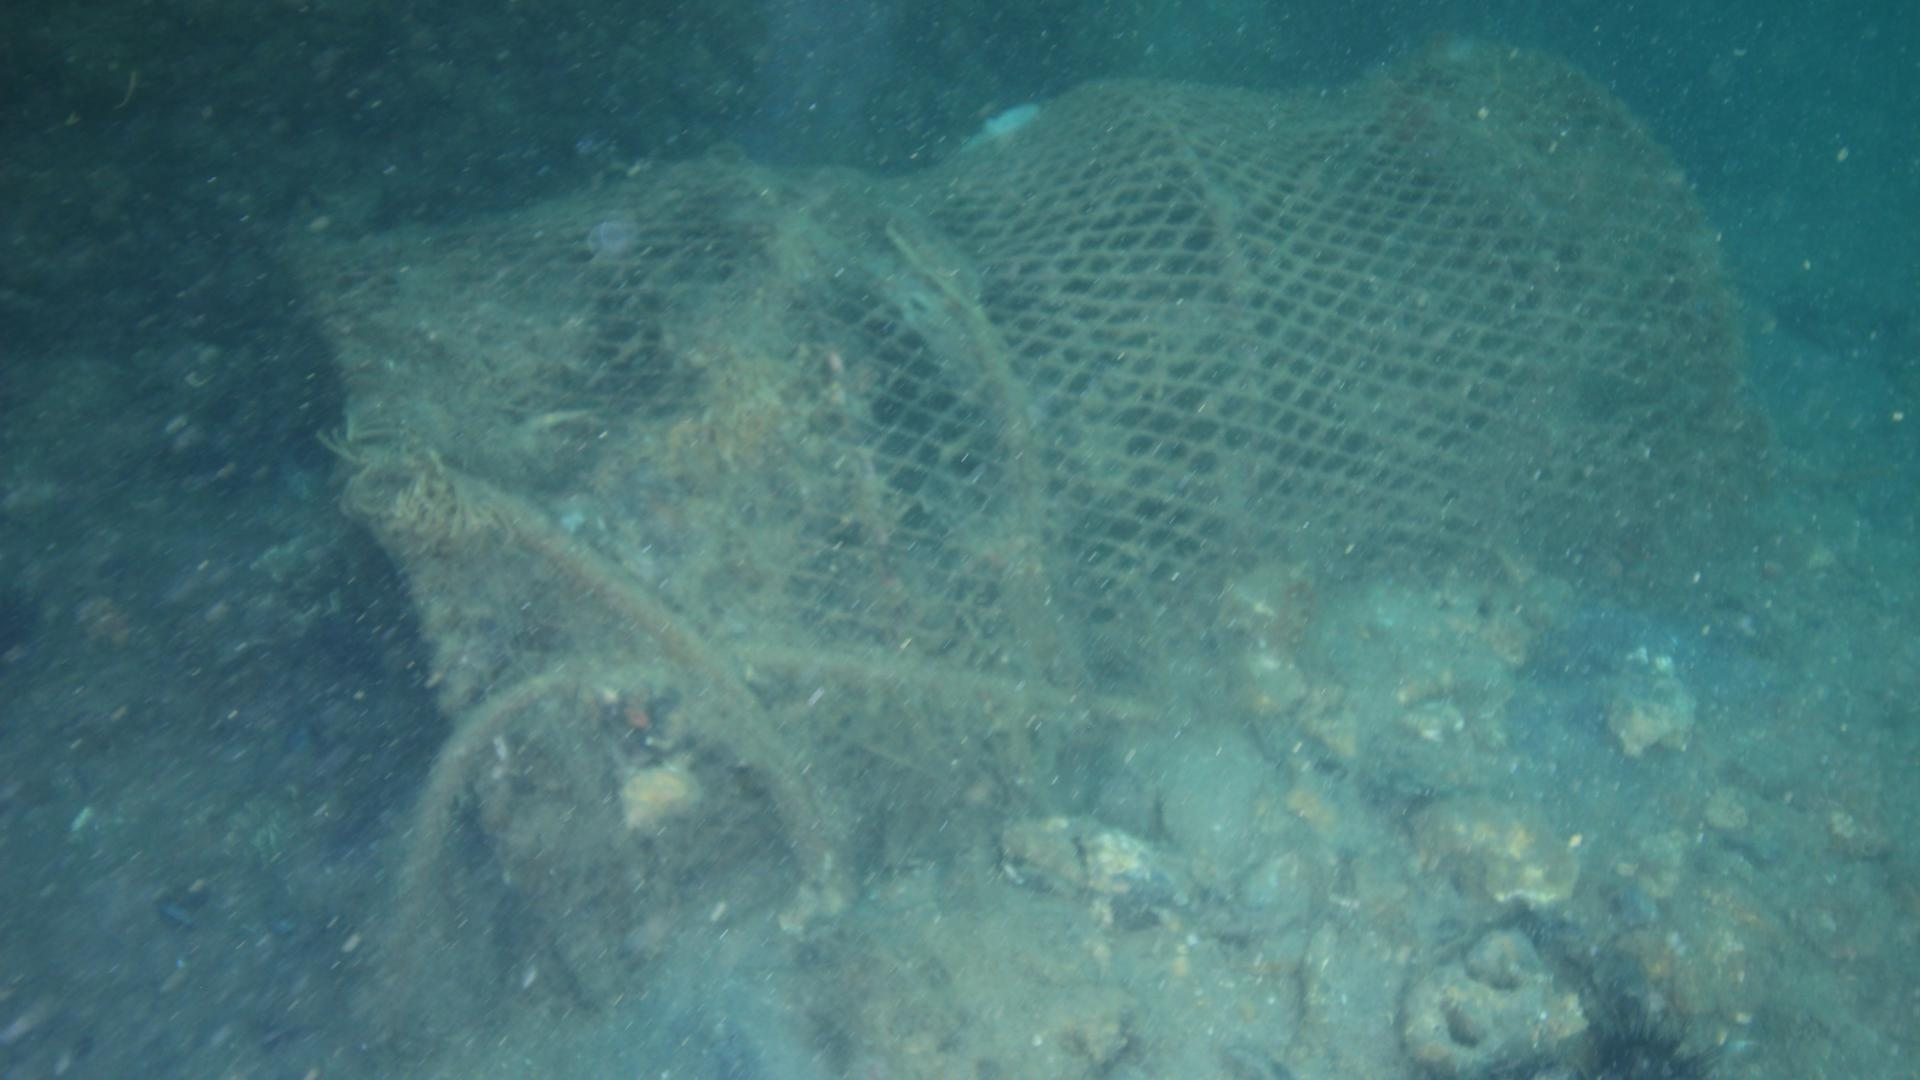spring fish trap: (293, 30, 1738, 898)
